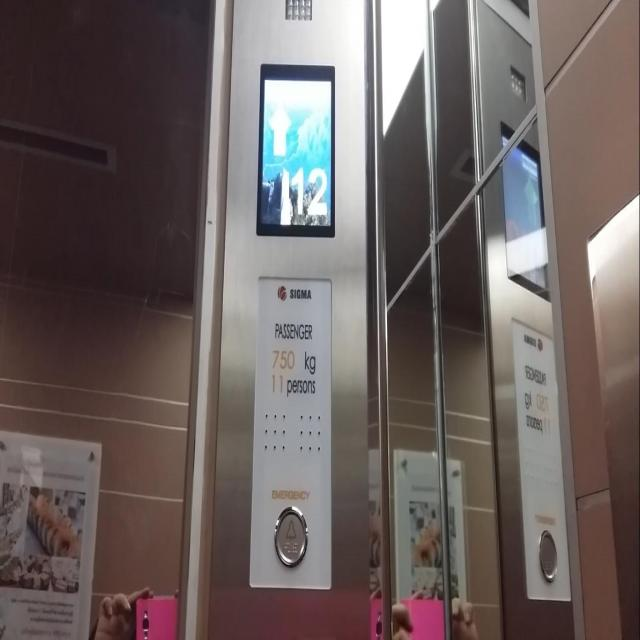alarm: (273, 504, 308, 568)
led: (256, 62, 335, 236)
